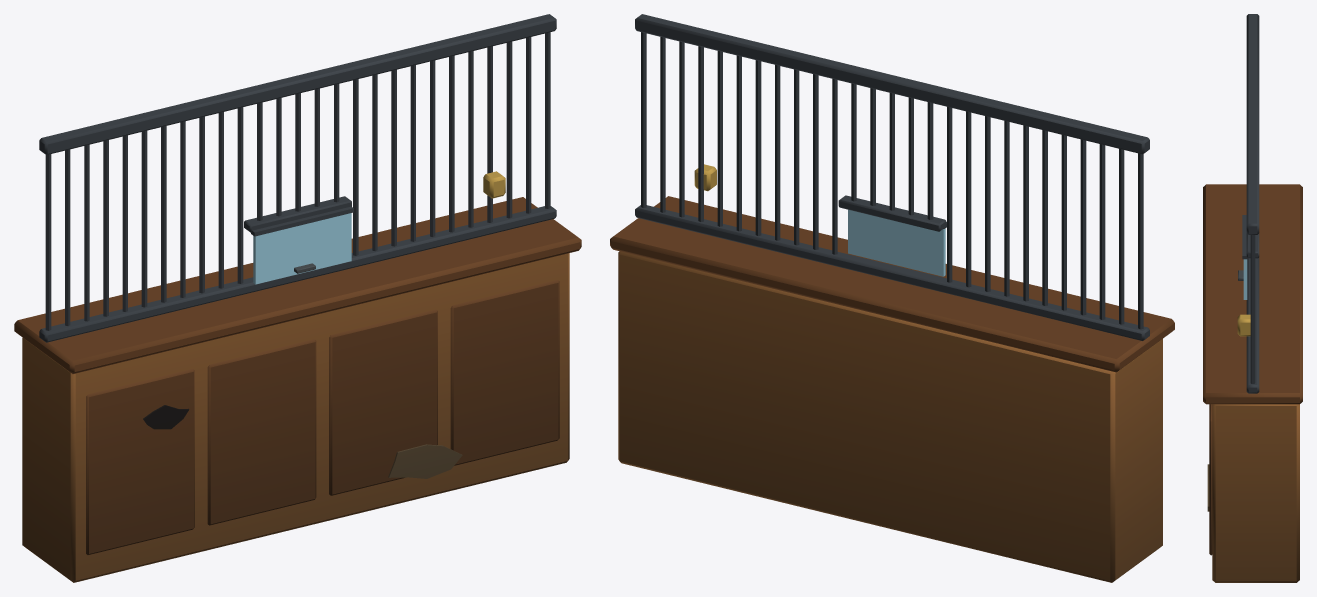
File: 95_comptoir_barreaux.fbx
The picture shows the model from 3 angles, left to right: view 1: azimuth 30°, elevation 25°; view 2: azimuth 150°, elevation 25°; view 3: azimuth 270°, elevation 25°; orthographic projection. The views are drawn at different scales.
Parts seen in each view (by area): view 1: Comptoir, Barreaux, Guichet; view 2: Comptoir, Barreaux, Guichet; view 3: Comptoir, Barreaux, Guichet.
Boxes of the visible parts, bbox=[...] form: Comptoir: bbox=[14, 197, 581, 582]; Barreaux: bbox=[39, 14, 556, 342]; Guichet: bbox=[251, 206, 353, 284]; Comptoir: bbox=[610, 196, 1174, 582]; Barreaux: bbox=[635, 14, 1149, 340]; Guichet: bbox=[848, 209, 946, 276]; Comptoir: bbox=[1203, 184, 1302, 582]; Barreaux: bbox=[1237, 14, 1259, 393]; Guichet: bbox=[1238, 215, 1248, 299].
Size of the model in its own units: 2.24 by 1.79 by 0.448.
1 material, 1 textured.
